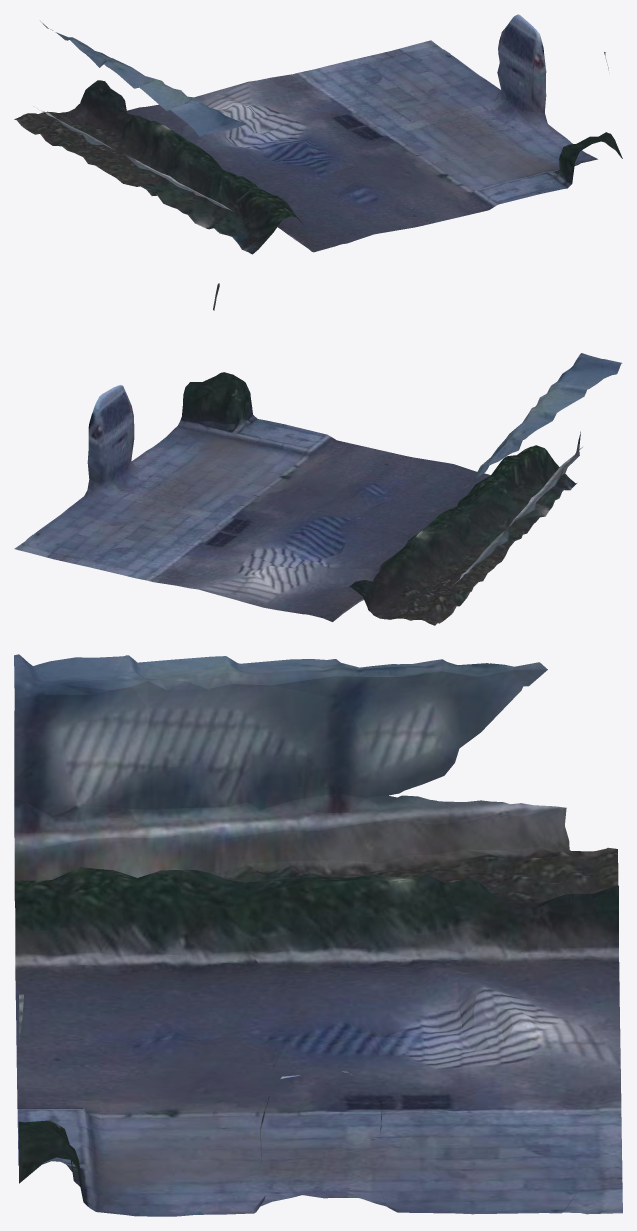
The model's file is Tile_+006_+007_L22_0003340.glb.
3 renders of one model, top to bottom at view 1: azimuth 30°, elevation 25°; view 2: azimuth 150°, elevation 25°; view 3: azimuth 270°, elevation 25°, orthographic. The views are drawn at different scales.
Parts seen in each view (by area): view 1: rtc; view 2: rtc; view 3: rtc.
Boxes of the visible parts, x1=… form: rtc: x1=14, y1=14, x2=622, y2=254; rtc: x1=14, y1=283, x2=622, y2=625; rtc: x1=14, y1=654, x2=622, y2=1216.
Size of the model in its own units: 9.02 by 3.17 by 7.1.
Materials: 1 (1 with a texture image).
